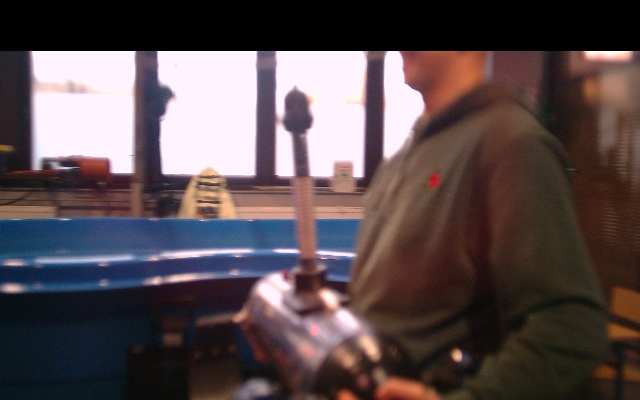black: (292, 168, 318, 270)
